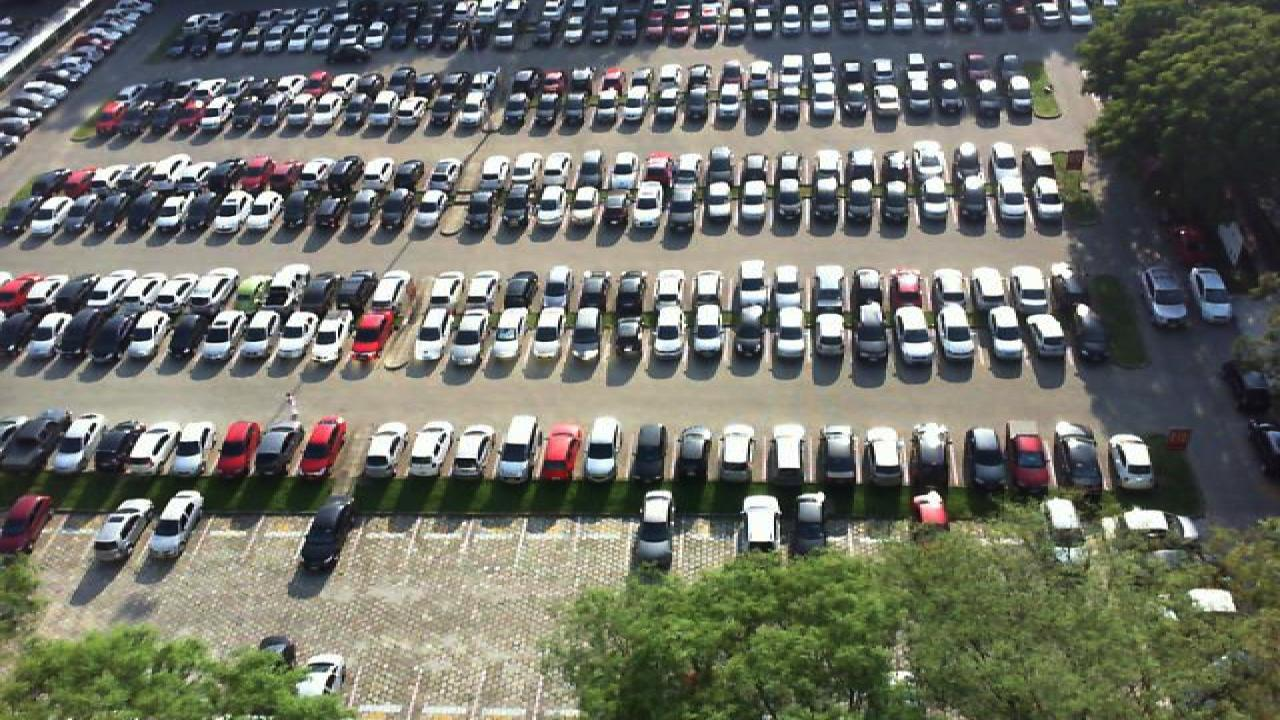Car: (296, 494, 358, 579), (94, 495, 152, 563), (628, 489, 678, 567), (152, 489, 208, 556), (40, 411, 98, 474), (1054, 419, 1104, 492), (1178, 266, 1236, 326), (1096, 507, 1198, 540), (86, 417, 144, 475), (736, 493, 786, 559), (26, 307, 86, 362), (2, 494, 54, 557), (364, 420, 418, 479), (408, 421, 462, 480), (296, 416, 348, 476), (1034, 302, 1082, 366), (1140, 264, 1188, 328), (494, 414, 540, 480), (128, 420, 182, 474), (1106, 432, 1156, 490), (582, 415, 624, 483), (0, 410, 46, 472), (858, 424, 904, 486), (986, 304, 1032, 366), (788, 490, 832, 554), (208, 420, 260, 474), (250, 421, 300, 477), (910, 421, 952, 487), (806, 304, 850, 366), (894, 304, 938, 366), (414, 305, 460, 364), (78, 308, 128, 362), (962, 423, 1004, 487), (540, 420, 584, 481), (670, 423, 712, 486), (764, 422, 806, 484), (688, 304, 730, 366), (852, 305, 894, 367), (940, 304, 982, 366), (452, 305, 496, 364), (170, 421, 218, 475), (626, 423, 668, 484), (714, 423, 756, 484), (116, 308, 164, 361), (452, 422, 496, 479), (1008, 432, 1052, 489), (156, 307, 202, 361), (492, 304, 532, 366), (768, 304, 808, 366), (274, 308, 318, 364), (352, 308, 396, 364), (646, 306, 688, 364), (238, 310, 282, 364), (530, 305, 570, 364), (812, 423, 850, 485), (266, 262, 310, 315), (730, 306, 770, 364), (310, 307, 352, 362), (568, 305, 606, 364), (202, 308, 244, 361), (1044, 494, 1090, 542), (92, 266, 140, 312), (608, 306, 646, 364), (968, 264, 1010, 315), (160, 268, 206, 314), (194, 266, 238, 314), (0, 309, 40, 361), (1050, 261, 1090, 313), (810, 261, 848, 315), (1008, 263, 1048, 314), (28, 272, 74, 316), (60, 271, 106, 315), (130, 269, 174, 314), (230, 270, 274, 315), (734, 260, 770, 315), (910, 490, 954, 534), (850, 264, 888, 314), (930, 265, 968, 315), (770, 265, 808, 314), (372, 267, 410, 315), (890, 267, 928, 315), (574, 265, 610, 315), (652, 264, 688, 314), (502, 268, 540, 315), (338, 270, 376, 316), (432, 266, 468, 314), (612, 268, 648, 315), (306, 271, 344, 315), (692, 265, 726, 314), (468, 267, 502, 315), (0, 272, 38, 312), (540, 269, 572, 314)
